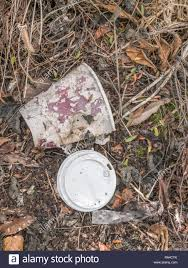paper_cup: (17, 62, 121, 151)
